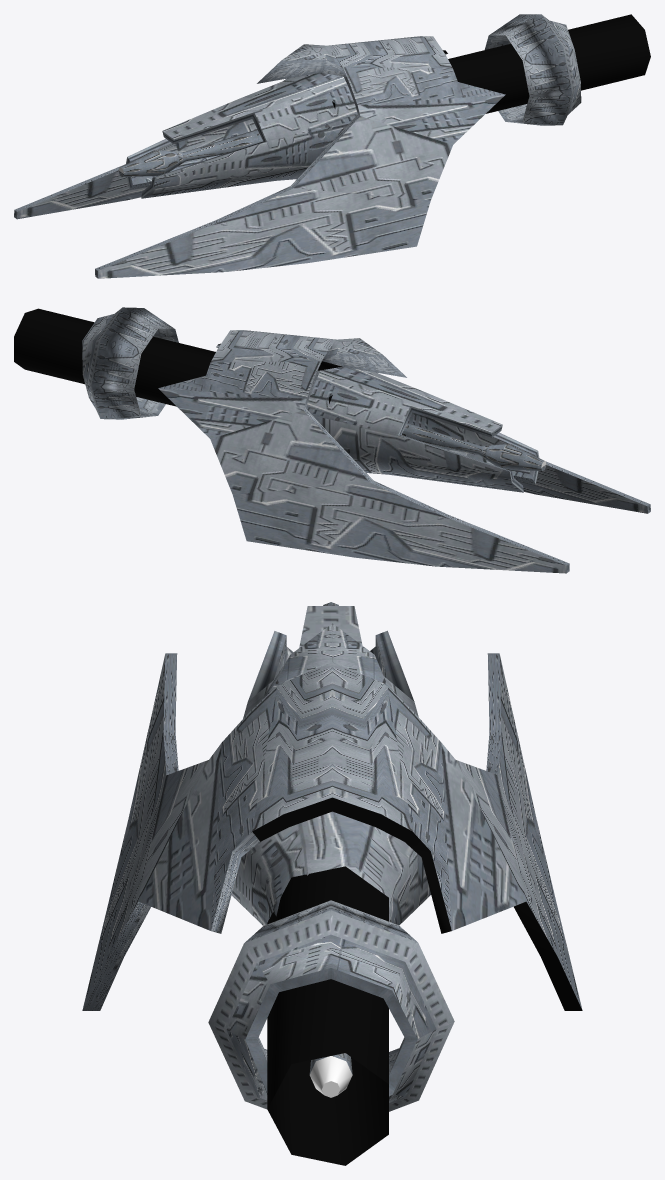
Rendered from sol04.obj.
The picture shows the model from 3 angles, top to bottom: view 1: azimuth 30°, elevation 25°; view 2: azimuth 150°, elevation 25°; view 3: azimuth 270°, elevation 25°; orthographic projection. The views are drawn at different scales.
Visible parts, largest first — view 1: TUBE090, TUBE010, CYLINDER030, TUBE020, CYLINDER020, SPHERE020; view 2: TUBE090, TUBE010, CYLINDER030, TUBE020, CYLINDER020, SPHERE020; view 3: TUBE090, TUBE020, CYLINDER030, TUBE010, SPHERE020, CYLINDER010.
Part boxes in pixels (x1=…): TUBE090: x1=14, y1=36, x2=505, y2=278; TUBE010: x1=126, y1=72, x2=357, y2=198; CYLINDER030: x1=448, y1=14, x2=650, y2=113; TUBE020: x1=484, y1=14, x2=581, y2=125; CYLINDER020: x1=118, y1=129, x2=262, y2=176; SPHERE020: x1=257, y1=44, x2=346, y2=83; TUBE090: x1=158, y1=330, x2=650, y2=573; TUBE010: x1=306, y1=366, x2=539, y2=492; CYLINDER030: x1=14, y1=308, x2=215, y2=406; TUBE020: x1=82, y1=307, x2=178, y2=419; CYLINDER020: x1=402, y1=423, x2=546, y2=470; SPHERE020: x1=317, y1=338, x2=406, y2=377; TUBE090: x1=82, y1=653, x2=582, y2=1010; TUBE020: x1=208, y1=900, x2=454, y2=1111; CYLINDER030: x1=267, y1=866, x2=388, y2=1165; TUBE010: x1=231, y1=606, x2=431, y2=925; SPHERE020: x1=262, y1=623, x2=396, y2=699; CYLINDER010: x1=309, y1=1053, x2=352, y2=1097.
Size of the model in its own units: 341 by 91.06 by 128.
Materials: 17 (6 with a texture image).
